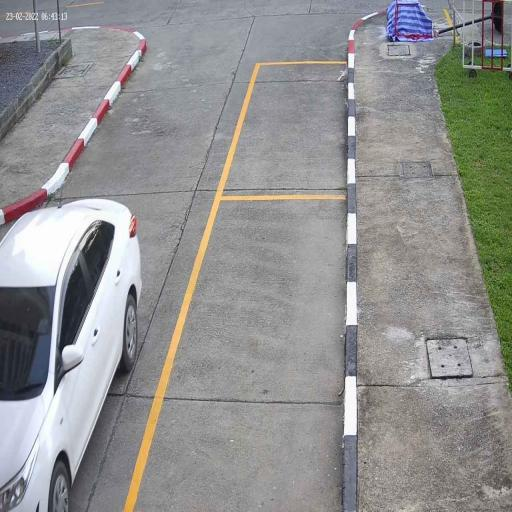car: (0, 196, 143, 512)
